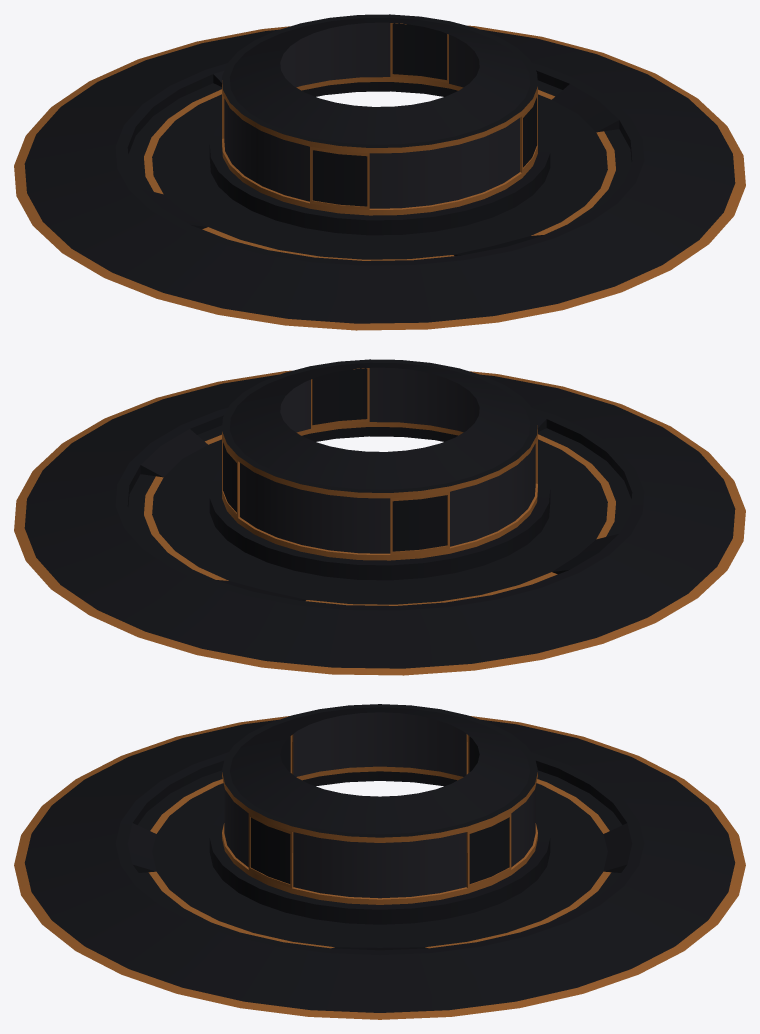
3 views of the same model, one above another, from view 1: azimuth 30°, elevation 25°; view 2: azimuth 150°, elevation 25°; view 3: azimuth 270°, elevation 25° (orthographic).
Parts seen in each view (by area): view 1: Base; view 2: Base; view 3: Base.
Part boxes in pixels (box(x1,y1,x2,y2)): Base: box(14, 14, 745, 330); Base: box(14, 359, 745, 675); Base: box(14, 704, 745, 1019).
Size of the model in its own units: 1746 by 292 by 1746.
